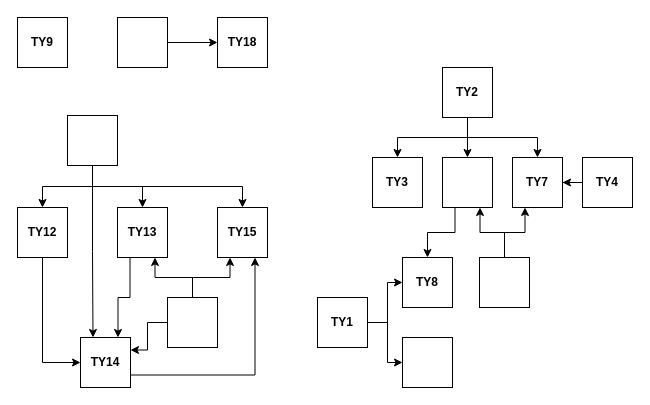
The diagram is 650 pixels wide and 405 high, and some of its shapes have lost their labels. The shapes that lost their labels are listed below. From the top down, each one's centre as x and y in pixels, then its label:
At (x=142, y=42): "TY17".
At (x=92, y=140): "TY10".
At (x=467, y=182): "TY6".
At (x=504, y=282): "TY5".
At (x=192, y=322): "TY11".
At (x=427, y=362): "TY16".
